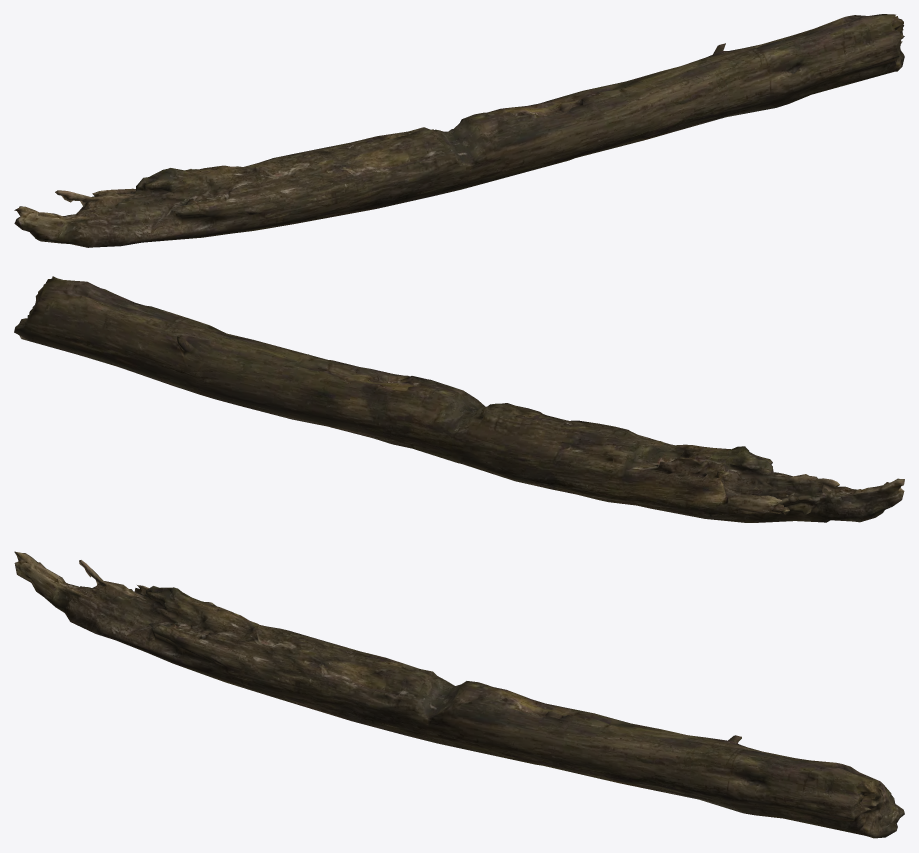
File: dead_tree_trunk_1k_lo.glb
3 views of the same model, one above another, from view 1: azimuth 30°, elevation 25°; view 2: azimuth 150°, elevation 25°; view 3: azimuth 330°, elevation 25° (orthographic).
Parts seen in each view (by area): view 1: dead_tree_trunk; view 2: dead_tree_trunk; view 3: dead_tree_trunk.
Part boxes in pixels (x1,y1,x2,y2): dead_tree_trunk: [14, 14, 904, 247]; dead_tree_trunk: [14, 276, 904, 522]; dead_tree_trunk: [14, 551, 904, 838].
Size of the model in its own units: 3.05 by 0.2871 by 0.2773.
Materials: 1 (1 with a texture image).
